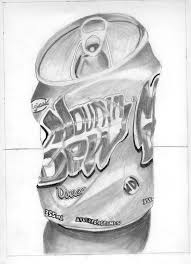metal: (27, 6, 170, 247)
